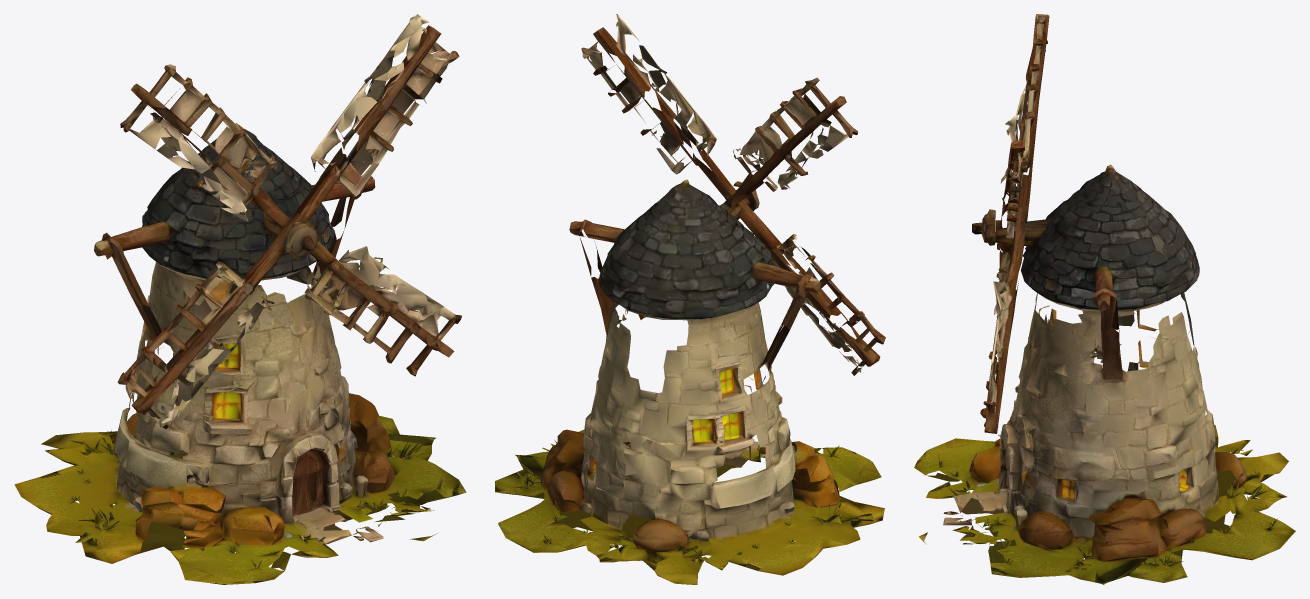
Rendered from tripo-moinho154.glb.
The picture shows the model from 3 angles, left to right: view 1: azimuth 30°, elevation 25°; view 2: azimuth 150°, elevation 25°; view 3: azimuth 270°, elevation 25°; orthographic projection. The views are drawn at different scales.
Visible parts, largest first — view 1: tripo_node_6cfabea4-a347-48a2-be79-446f93334d17; view 2: tripo_node_6cfabea4-a347-48a2-be79-446f93334d17; view 3: tripo_node_6cfabea4-a347-48a2-be79-446f93334d17.
Boxes of the visible parts, x1,y1,x2,y2 form: tripo_node_6cfabea4-a347-48a2-be79-446f93334d17: (14,14,466,584); tripo_node_6cfabea4-a347-48a2-be79-446f93334d17: (495,14,885,584); tripo_node_6cfabea4-a347-48a2-be79-446f93334d17: (914,14,1295,584).
Bounding box in the file's own units: 0.8321 × 0.9821 × 0.7674.
Materials: 1 (1 with a texture image).
